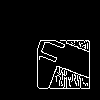F: (25, 25, 71, 79)
